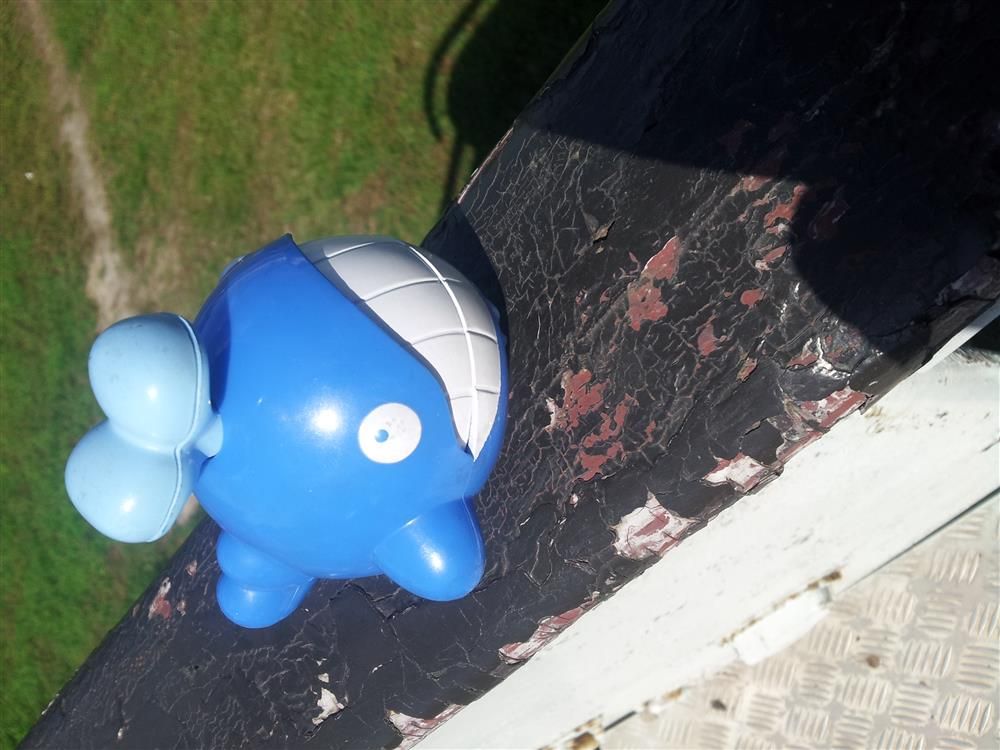toy_whale: (61, 231, 511, 628)
